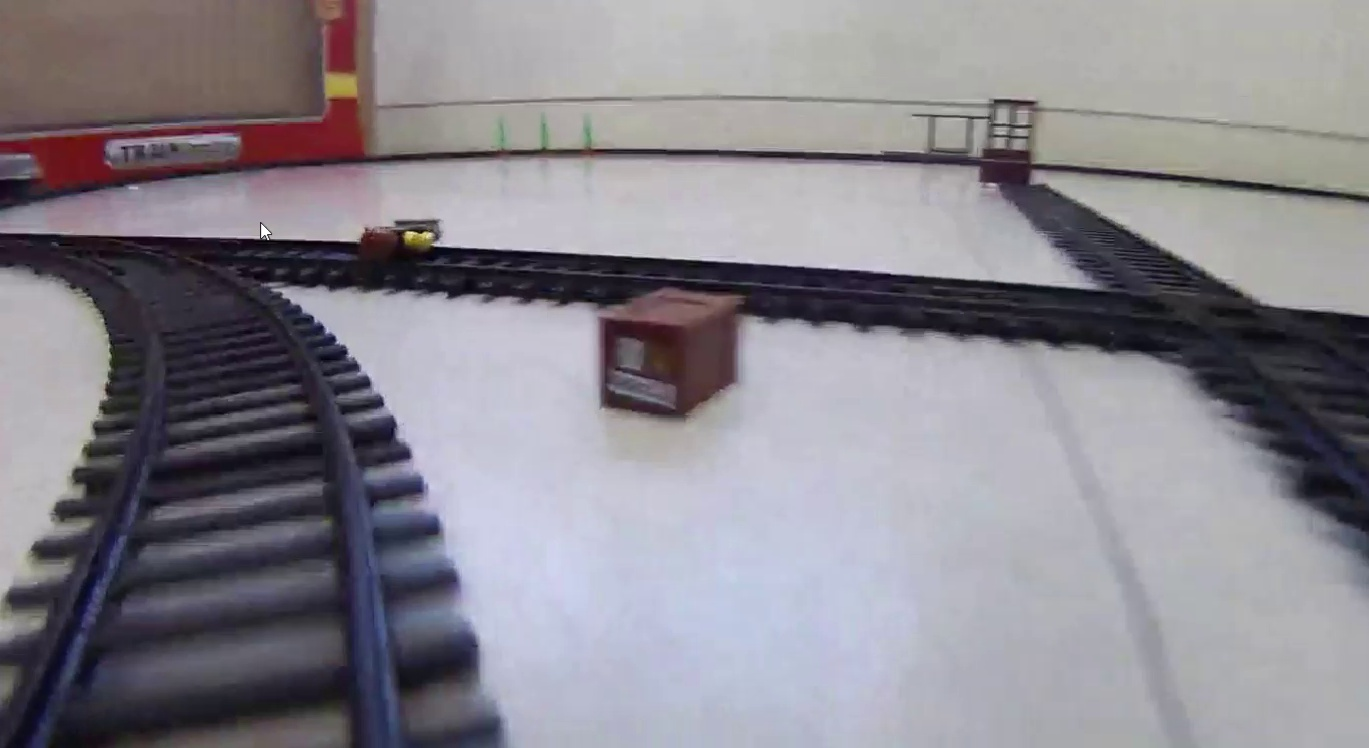box: (604, 290, 743, 415)
people: (358, 216, 436, 257)
